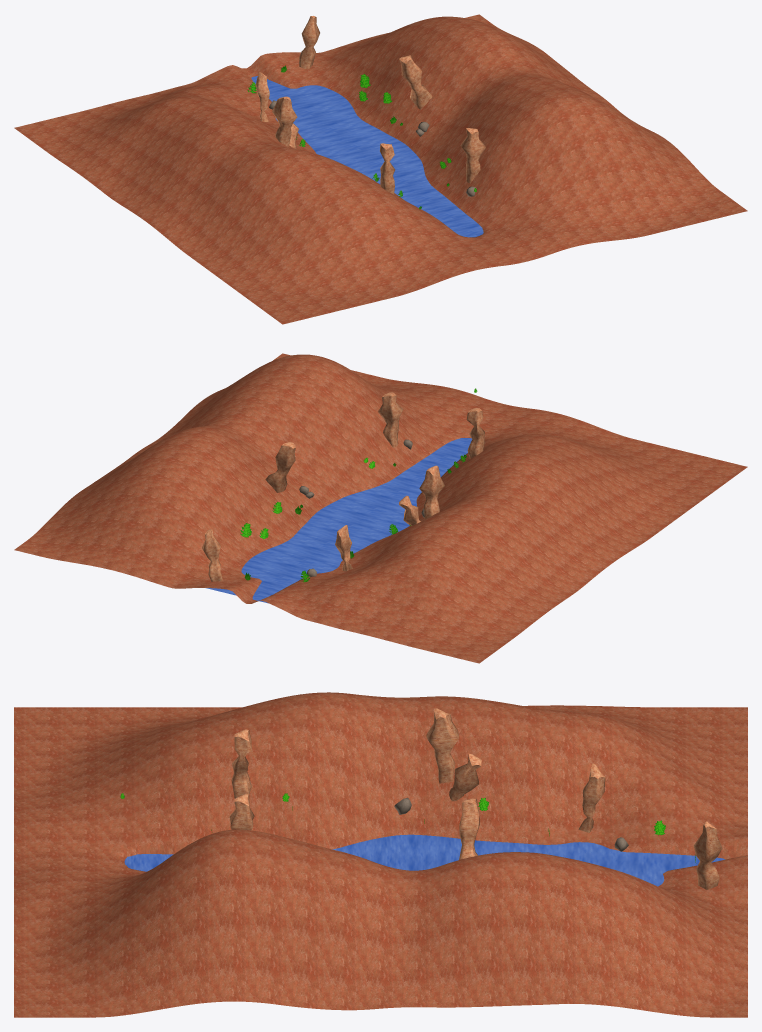
The model's file is SM_HoodoEnviro.fbx.
The picture shows the model from 3 angles, top to bottom: view 1: azimuth 30°, elevation 25°; view 2: azimuth 150°, elevation 25°; view 3: azimuth 270°, elevation 25°; orthographic projection. The views are drawn at different scales.
Parts seen in each view (by area): view 1: Bush_09; view 2: Bush_09; view 3: Bush_09.
Boxes of the visible parts, x1,y1,x2,y2 form: Bush_09: [14, 14, 747, 324]; Bush_09: [14, 353, 747, 663]; Bush_09: [14, 692, 747, 1017].
Size of the model in its own units: 100000 by 23136 by 100000.
5 materials, 5 textured.
